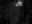person: (16, 1, 23, 6)
